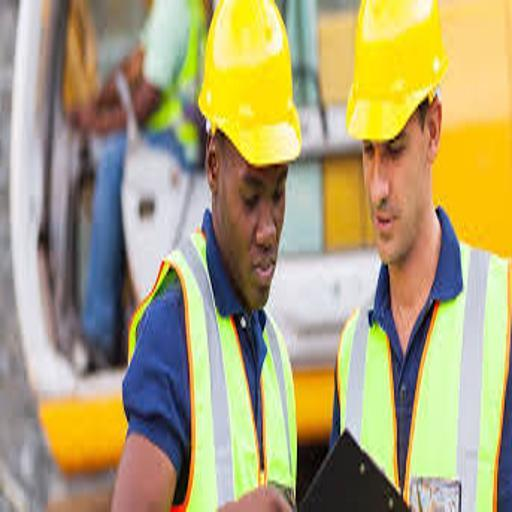Hard_hat: (194, 3, 316, 177), (343, 2, 458, 150)
Humans: (330, 113, 512, 512), (114, 162, 305, 506)
Vest: (148, 228, 304, 512), (333, 254, 501, 512)
